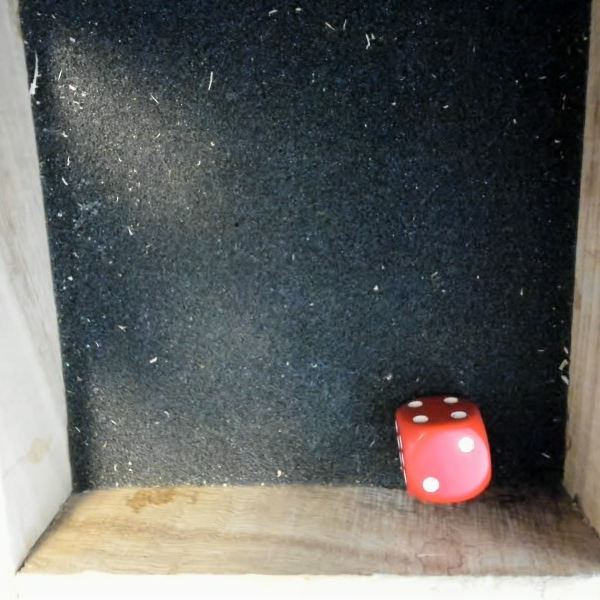red_die_pip2: (385, 389, 496, 515)
